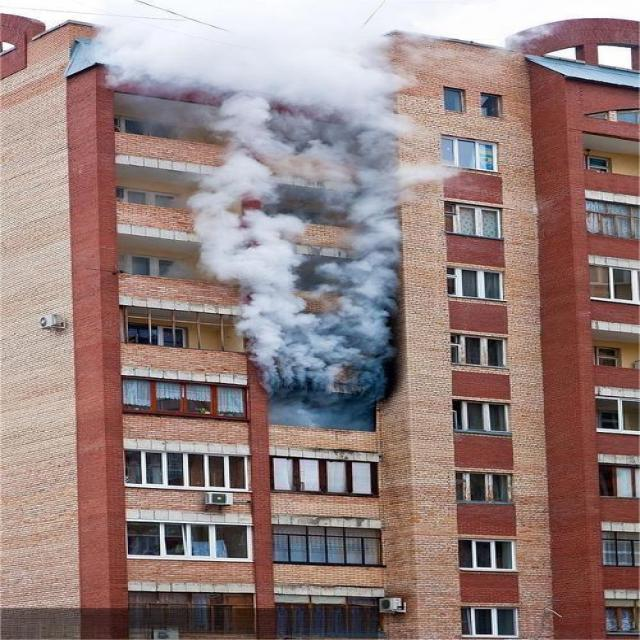Smoke: (106, 0, 440, 418)
